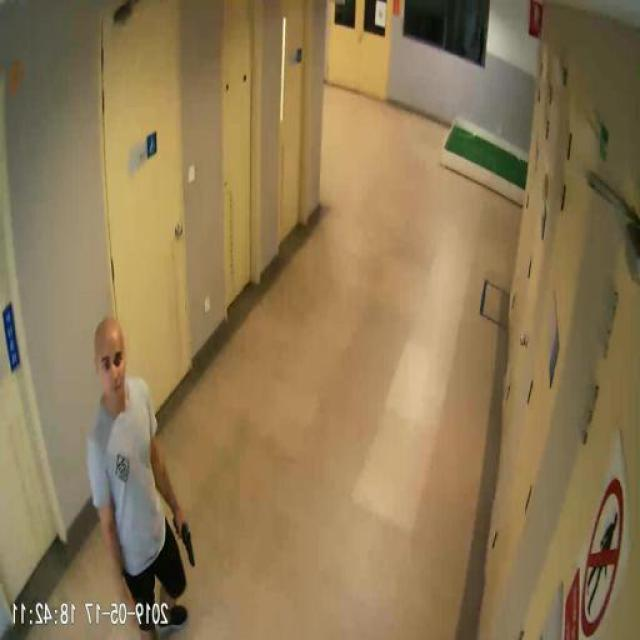weapon: (171, 516, 197, 567)
